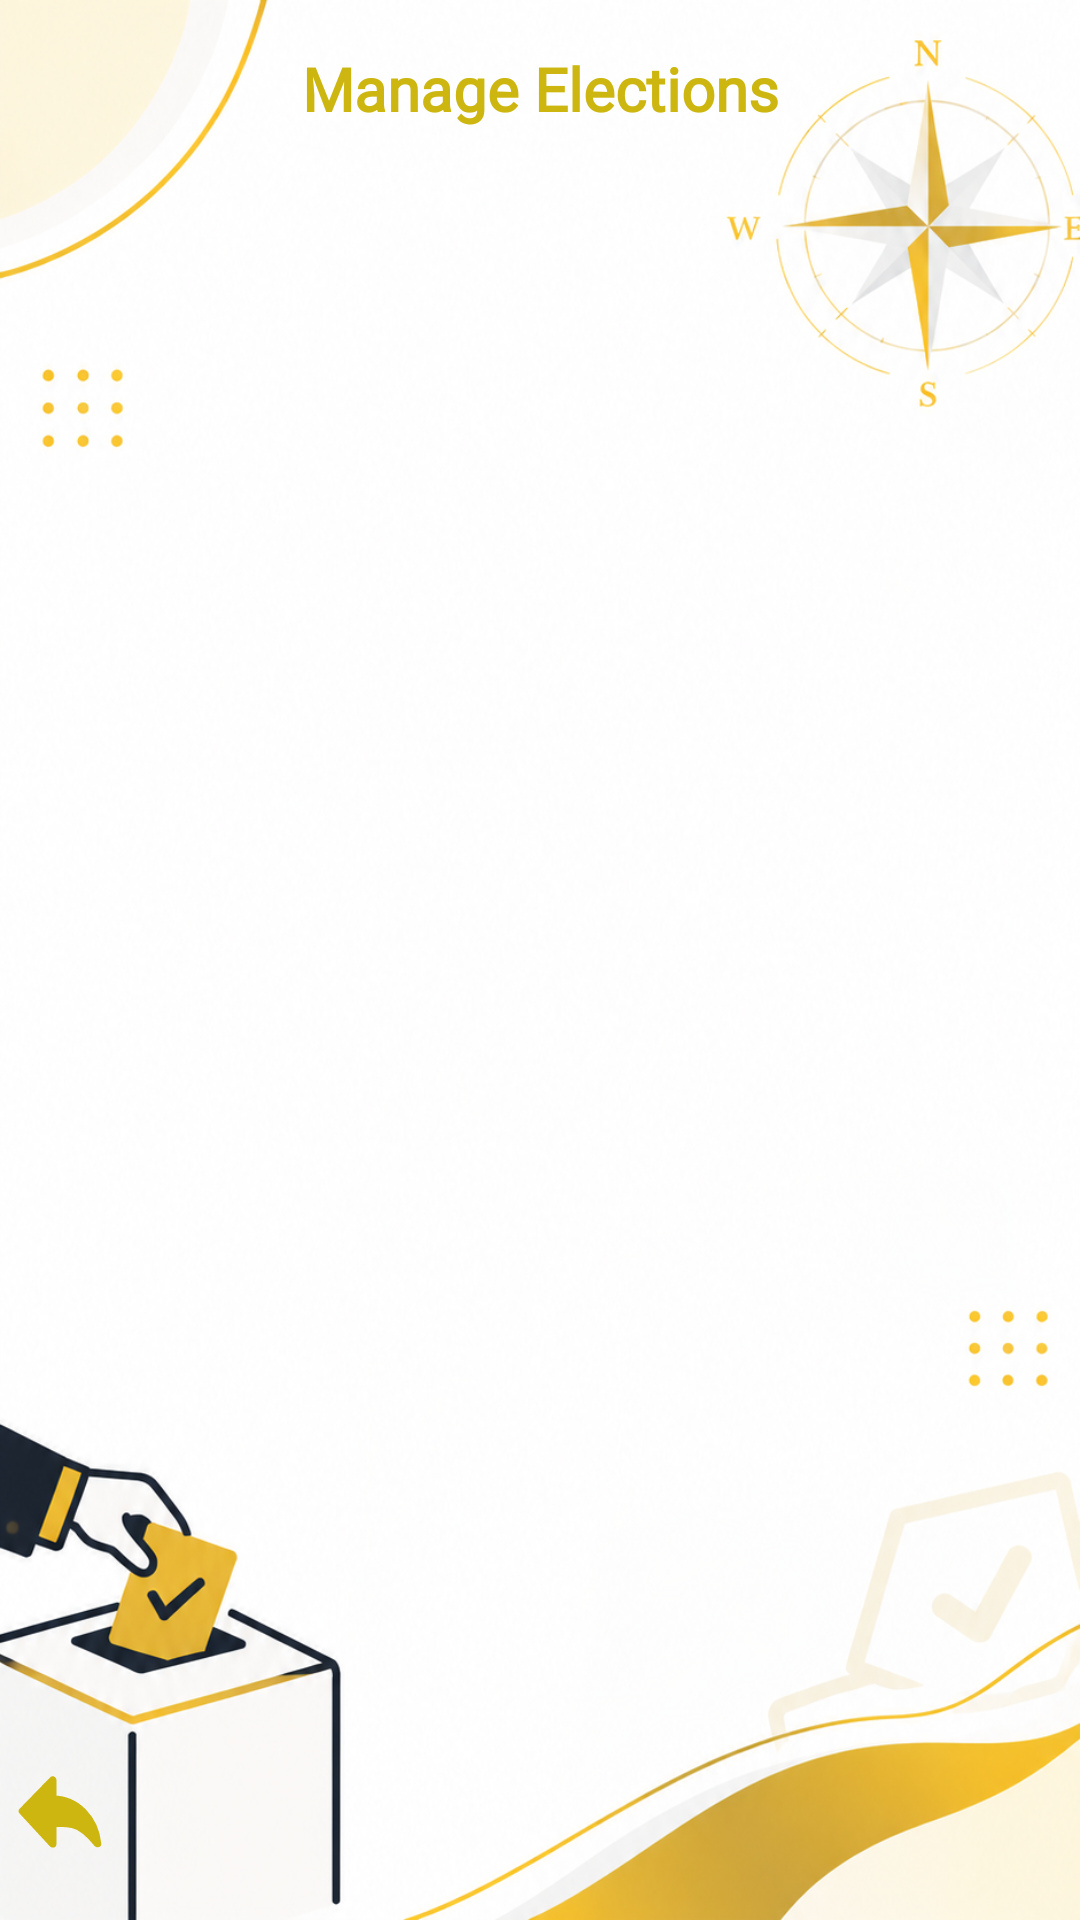

Point at icon controls on the screen. Image size 1080 × 1920, points as (x,y).
Back: (60,1812)
